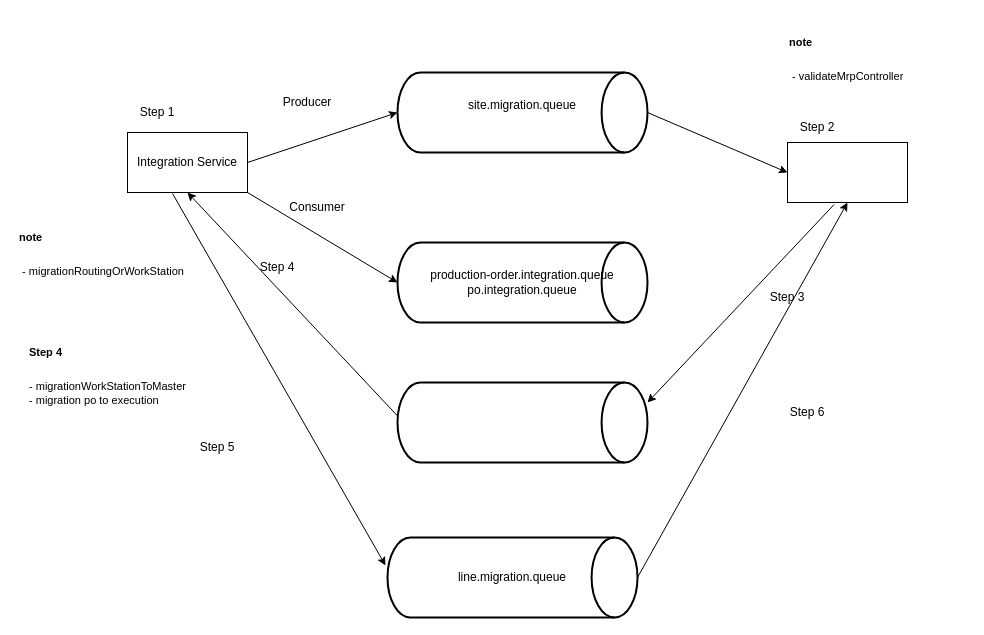
The diagram is 984 pixels wide and 635 high, and some of its shapes have lost their labels. The centre of each missing label's shape, as x and y in pixels:
Master Service: point 847,172
site.handler.queue: point 522,422
